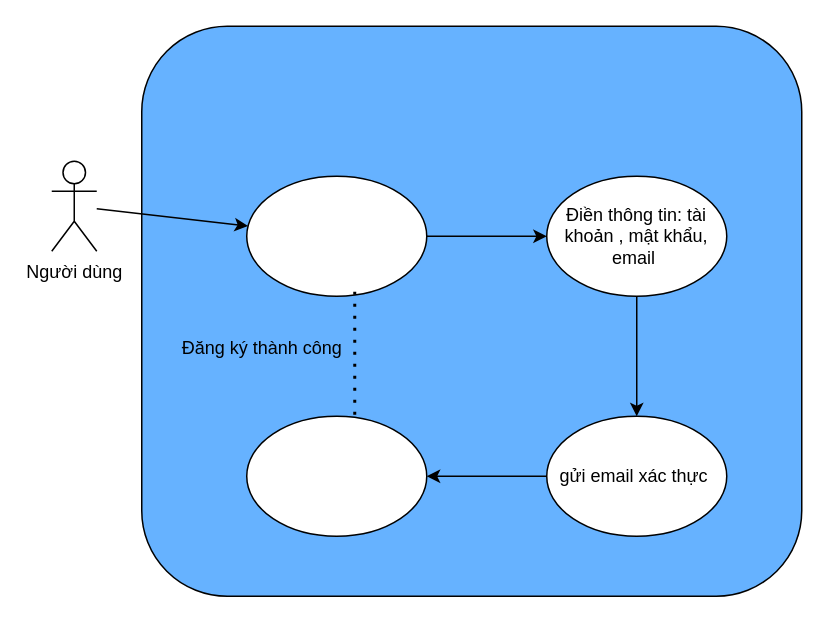
This 828x623 diagram has some shape labels left out. The centre of each missing label's shape, as x and y in pixels:
Xác thực tài khoản: (x=336, y=475)
Đăng ký: (x=336, y=235)
